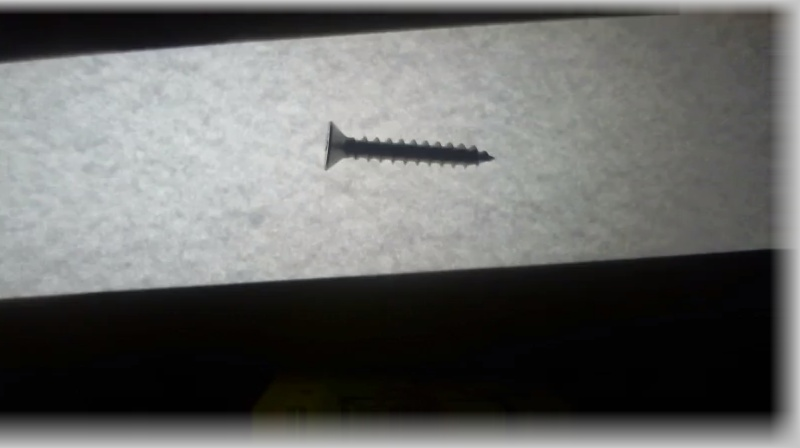S001: (320, 121, 498, 176)
